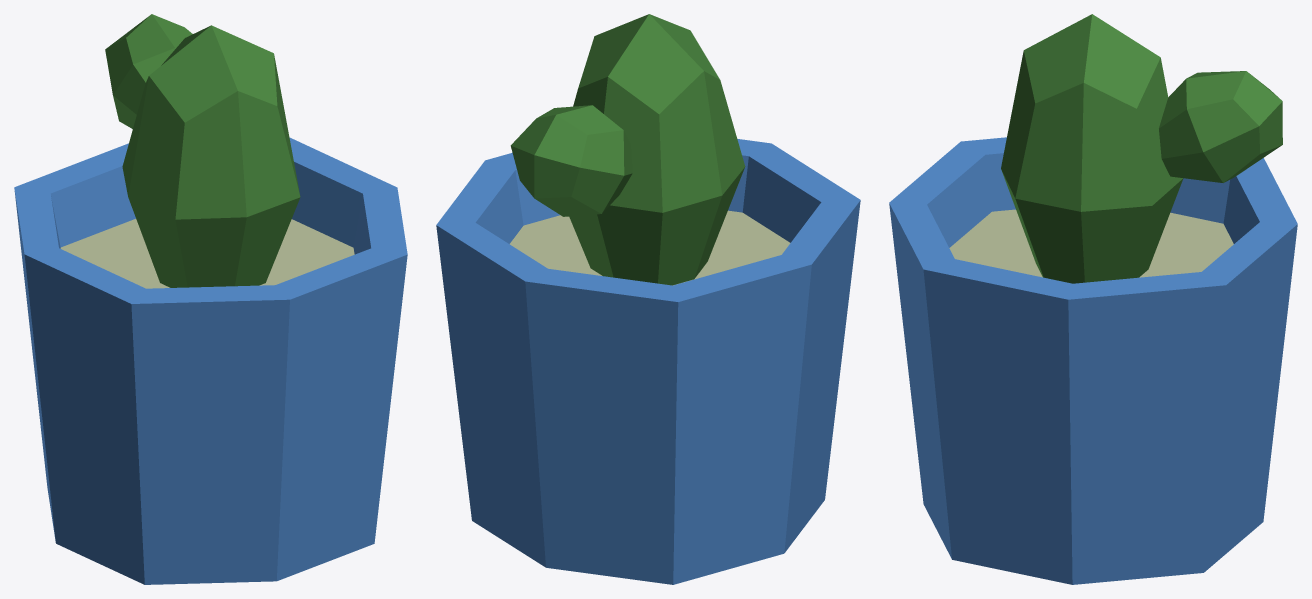
The model's file is Bedroom_2_Cactus.fbx.
3 views of the same model, side by side, from view 1: azimuth 30°, elevation 25°; view 2: azimuth 150°, elevation 25°; view 3: azimuth 270°, elevation 25° (orthographic).
Parts seen in each view (by area): view 1: Bedroom_2_Cactus; view 2: Bedroom_2_Cactus; view 3: Bedroom_2_Cactus.
Part boxes in pixels (bbox=[...]): Bedroom_2_Cactus: bbox=[14, 14, 407, 584]; Bedroom_2_Cactus: bbox=[436, 14, 860, 584]; Bedroom_2_Cactus: bbox=[889, 14, 1297, 584].
Bounding box in the file's own units: 15.39 × 20.74 × 15.39.
